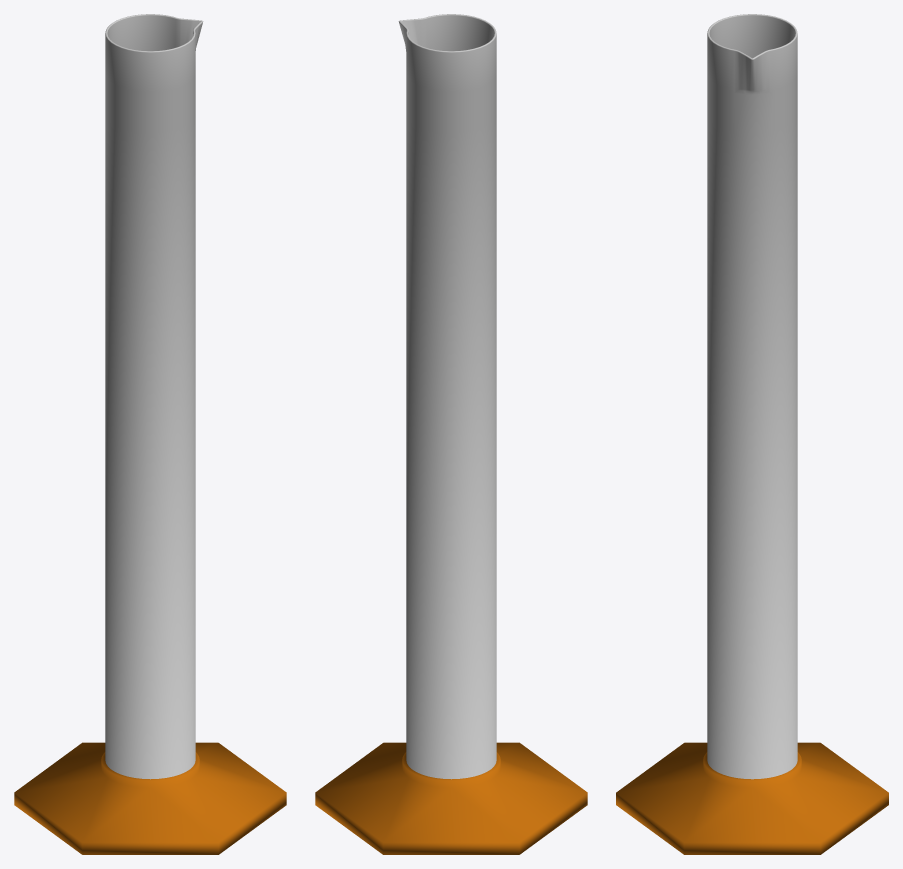
Rendered from graduatedCylinder.obj.
The picture shows the model from 3 angles, left to right: view 1: azimuth 30°, elevation 25°; view 2: azimuth 150°, elevation 25°; view 3: azimuth 270°, elevation 25°; orthographic projection.
Parts seen in each view (by area): view 1: Sphere; view 2: Sphere; view 3: Sphere.
Boxes of the visible parts, <box> form: Sphere: <box>14,14,286,854</box>; Sphere: <box>315,14,587,854</box>; Sphere: <box>616,14,888,854</box>.
Bounding box in the file's own units: 5.2 × 18.76 × 6.01.
